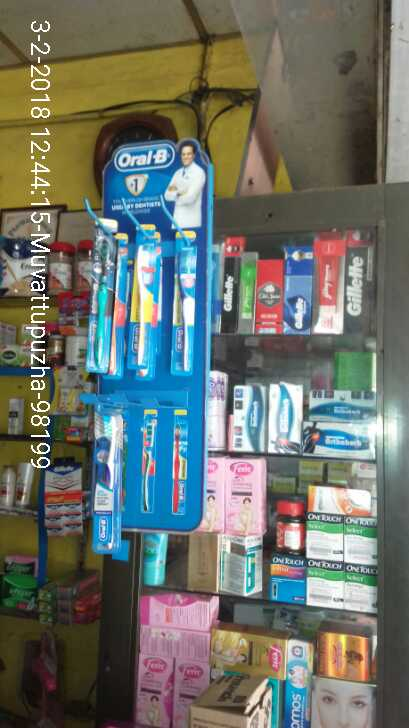beauty: (347, 239, 373, 330), (281, 262, 315, 330), (217, 250, 241, 331)
pharmacy: (92, 405, 125, 559), (132, 247, 160, 380), (84, 229, 109, 377), (179, 249, 203, 377)
